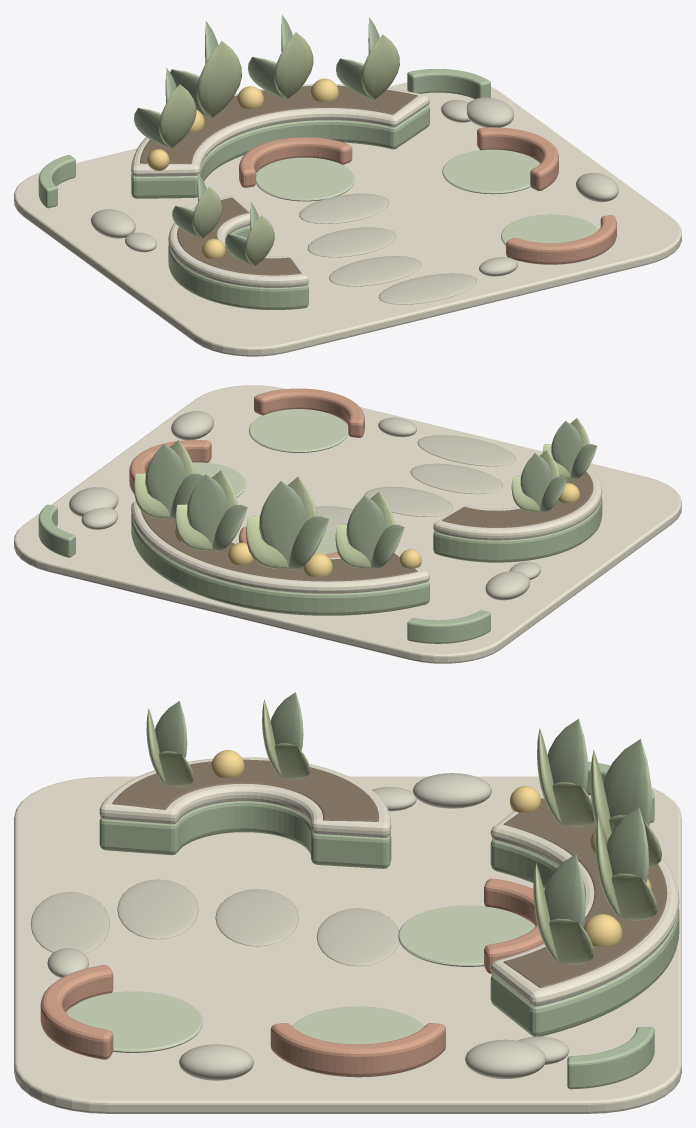
The model's file is quiet_garden.glb.
3 renders of one model, top to bottom at view 1: azimuth 30°, elevation 25°; view 2: azimuth 150°, elevation 25°; view 3: azimuth 270°, elevation 25°, orthographic. The views are drawn at different scales.
Parts seen in each view (by area): view 1: Garden_Foundation, Back_CrescentBed_SageBase, Back_CrescentBed_Soil, Back_CrescentBed_CreamLip, Rear_QuietInset, Right_QuietInset, Left_CrescentBed_SageBase, Left_CrescentBed_CreamLip, Rear_Nook_LowBack, Front_Nook_LowBack, Right_Nook_LowBack, Left_CrescentBed_Soil (+23 smaller); view 2: Garden_Foundation, Back_CrescentBed_SageBase, Back_CrescentBed_CreamLip, Left_CrescentBed_SageBase, Back_CrescentBed_Soil, Front_QuietInset, Left_CrescentBed_CreamLip, Front_Nook_LowBack, Left_CrescentBed_Soil, Garden_Plant_1_Leaf3, Flush_PathStone_0, Back_LeftBorder (+30 smaller); view 3: Garden_Foundation, Left_CrescentBed_SageBase, Back_CrescentBed_SageBase, Back_CrescentBed_Soil, Back_CrescentBed_CreamLip, Left_CrescentBed_CreamLip, Left_CrescentBed_Soil, Right_Nook_LowBack, Front_QuietInset, Rear_QuietInset, Front_Nook_LowBack, Flush_PathStone_0 (+31 smaller).
Boxes of the visible parts, left/top/right/bottom form: Garden_Foundation: left=14, top=82, right=681, bottom=356; Back_CrescentBed_SageBase: left=131, top=105, right=429, bottom=198; Back_CrescentBed_Soil: left=140, top=85, right=417, bottom=164; Back_CrescentBed_CreamLip: left=131, top=84, right=429, bottom=176; Rear_QuietInset: left=256, top=157, right=354, bottom=201; Right_QuietInset: left=442, top=149, right=539, bottom=194; Left_CrescentBed_SageBase: left=168, top=226, right=308, bottom=309; Left_CrescentBed_CreamLip: left=168, top=195, right=308, bottom=287; Rear_Nook_LowBack: left=239, top=137, right=352, bottom=187; Front_Nook_LowBack: left=506, top=215, right=616, bottom=264; Right_Nook_LowBack: left=477, top=127, right=558, bottom=190; Left_CrescentBed_Soil: left=177, top=197, right=301, bottom=275; Garden_Foundation: left=14, top=385, right=681, bottom=663; Back_CrescentBed_SageBase: left=131, top=514, right=429, bottom=615; Back_CrescentBed_CreamLip: left=131, top=501, right=429, bottom=593; Left_CrescentBed_SageBase: left=433, top=497, right=602, bottom=562; Back_CrescentBed_Soil: left=141, top=510, right=417, bottom=581; Front_QuietInset: left=249, top=409, right=348, bottom=452; Left_CrescentBed_CreamLip: left=433, top=468, right=602, bottom=540; Front_Nook_LowBack: left=254, top=388, right=364, bottom=437; Left_CrescentBed_Soil: left=442, top=471, right=593, bottom=527; Garden_Plant_1_Leaf3: left=259, top=481, right=306, bottom=566; Flush_PathStone_0: left=417, top=435, right=515, bottom=466; Back_LeftBorder: left=407, top=610, right=490, bottom=643; Garden_Foundation: left=14, top=776, right=681, bottom=1113; Left_CrescentBed_SageBase: left=99, top=801, right=391, bottom=868; Back_CrescentBed_SageBase: left=490, top=839, right=679, bottom=1036; Back_CrescentBed_Soil: left=503, top=798, right=667, bottom=987; Back_CrescentBed_CreamLip: left=490, top=795, right=679, bottom=1006; Left_CrescentBed_CreamLip: left=99, top=757, right=391, bottom=837; Left_CrescentBed_Soil: left=112, top=759, right=379, bottom=821; Right_Nook_LowBack: left=270, top=1023, right=445, bottom=1077; Front_QuietInset: left=66, top=991, right=202, bottom=1052; Rear_QuietInset: left=398, top=905, right=534, bottom=966; Front_Nook_LowBack: left=40, top=965, right=113, bottom=1059; Flush_PathStone_0: left=30, top=891, right=109, bottom=953.
Size of the model in its own units: 7.4 by 1.98 by 6.4.
